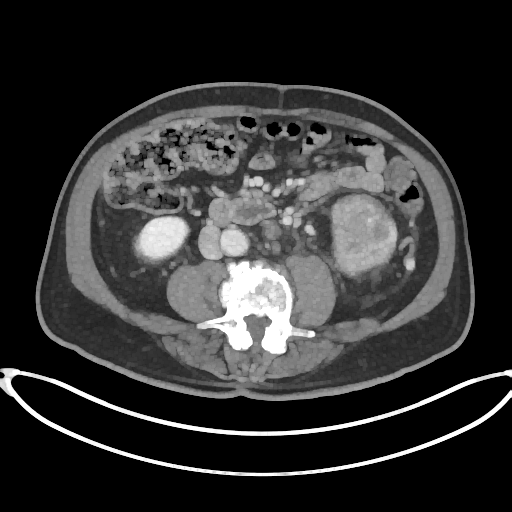Lesion: (327, 190, 399, 279)
